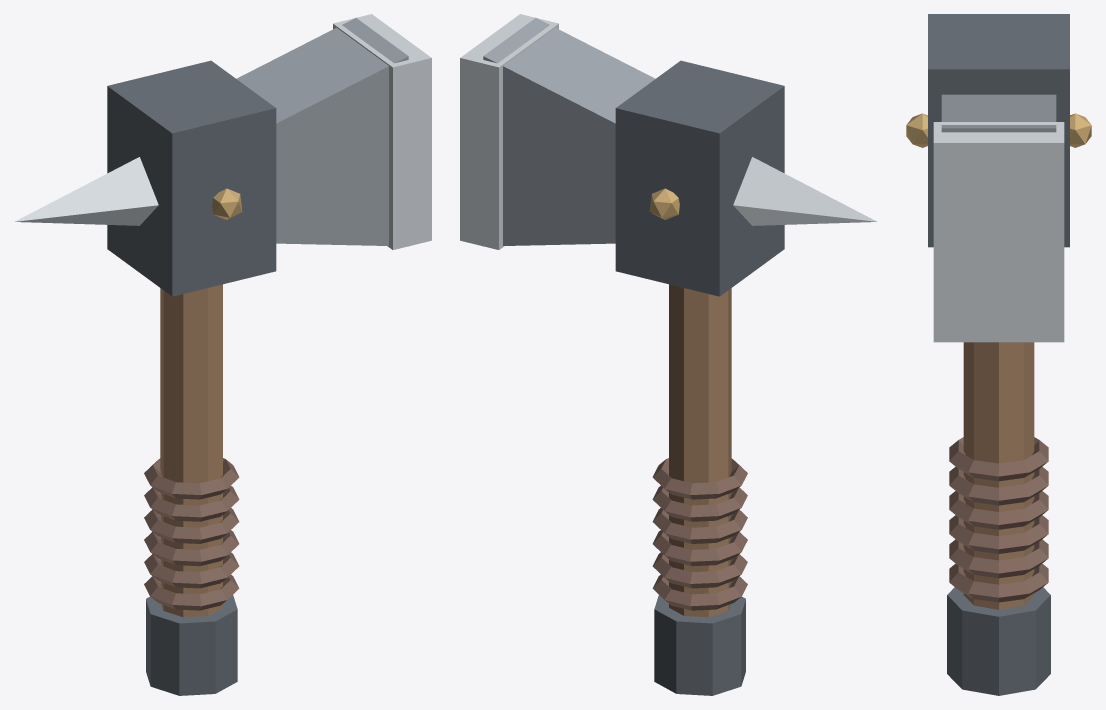
Rendered from small_axe.glb.
3 renders of one model, left to right at view 1: azimuth 30°, elevation 25°; view 2: azimuth 150°, elevation 25°; view 3: azimuth 270°, elevation 25°, orthographic. The views are drawn at different scales.
Parts seen in each view (by area): view 1: HeadSocket.004, ChoppingBlade.004, HaftCore.004, ChoppingEdge.004, LowerFerrule.004, BackSpike.002, GripWrap_5.004, GripWrap_2.004, GripWrap_1.004, GripWrap_0.004, GripWrap_3.004, GripWrap_4.004 (+1 smaller); view 2: HeadSocket.004, ChoppingBlade.004, HaftCore.004, ChoppingEdge.004, LowerFerrule.004, BackSpike.002, GripWrap_5.004, GripWrap_2.004, GripWrap_1.004, GripWrap_0.004, GripWrap_3.004, GripWrap_4.004 (+1 smaller); view 3: ChoppingEdge.004, HeadSocket.004, HaftCore.004, LowerFerrule.004, ChoppingBlade.004, GripWrap_5.004, GripWrap_2.004, GripWrap_0.004, GripWrap_4.004, GripWrap_1.004, GripWrap_3.004, Rivet_0.004 (+1 smaller).
Part boxes in pixels (<box>): HeadSocket.004: <box>107,60,276,296</box>; ChoppingBlade.004: <box>236,18,408,246</box>; HaftCore.004: <box>160,284,222,617</box>; ChoppingEdge.004: <box>333,14,431,249</box>; LowerFerrule.004: <box>146,595,237,695</box>; BackSpike.002: <box>14,157,158,225</box>; GripWrap_5.004: <box>144,458,239,499</box>; GripWrap_2.004: <box>144,530,239,566</box>; GripWrap_1.004: <box>144,552,239,588</box>; GripWrap_0.004: <box>144,574,239,610</box>; GripWrap_3.004: <box>144,508,239,543</box>; GripWrap_4.004: <box>144,486,239,521</box>; HeadSocket.004: <box>615,60,784,296</box>; ChoppingBlade.004: <box>483,18,655,246</box>; HaftCore.004: <box>669,284,731,617</box>; ChoppingEdge.004: <box>460,14,558,249</box>; LowerFerrule.004: <box>654,595,745,695</box>; BackSpike.002: <box>733,157,877,225</box>; GripWrap_5.004: <box>652,458,747,499</box>; GripWrap_2.004: <box>652,530,747,566</box>; GripWrap_1.004: <box>652,552,747,588</box>; GripWrap_0.004: <box>652,574,747,610</box>; GripWrap_3.004: <box>652,508,747,543</box>; GripWrap_4.004: <box>652,486,747,521</box>; ChoppingEdge.004: <box>933,122,1064,342</box>; HeadSocket.004: <box>928,14,1069,247</box>; HaftCore.004: <box>963,342,1034,609</box>; LowerFerrule.004: <box>947,587,1050,695</box>; ChoppingBlade.004: <box>941,94,1056,132</box>; GripWrap_5.004: <box>949,437,1048,481</box>; GripWrap_2.004: <box>949,515,1048,553</box>; GripWrap_0.004: <box>949,563,1048,602</box>; GripWrap_4.004: <box>949,466,1048,505</box>; GripWrap_1.004: <box>949,539,1048,578</box>; GripWrap_3.004: <box>949,491,1048,529</box>; Rivet_0.004: <box>906,113,927,147</box>.
Bounding box in the file's own units: 0.895 × 1.31 × 0.3395.
